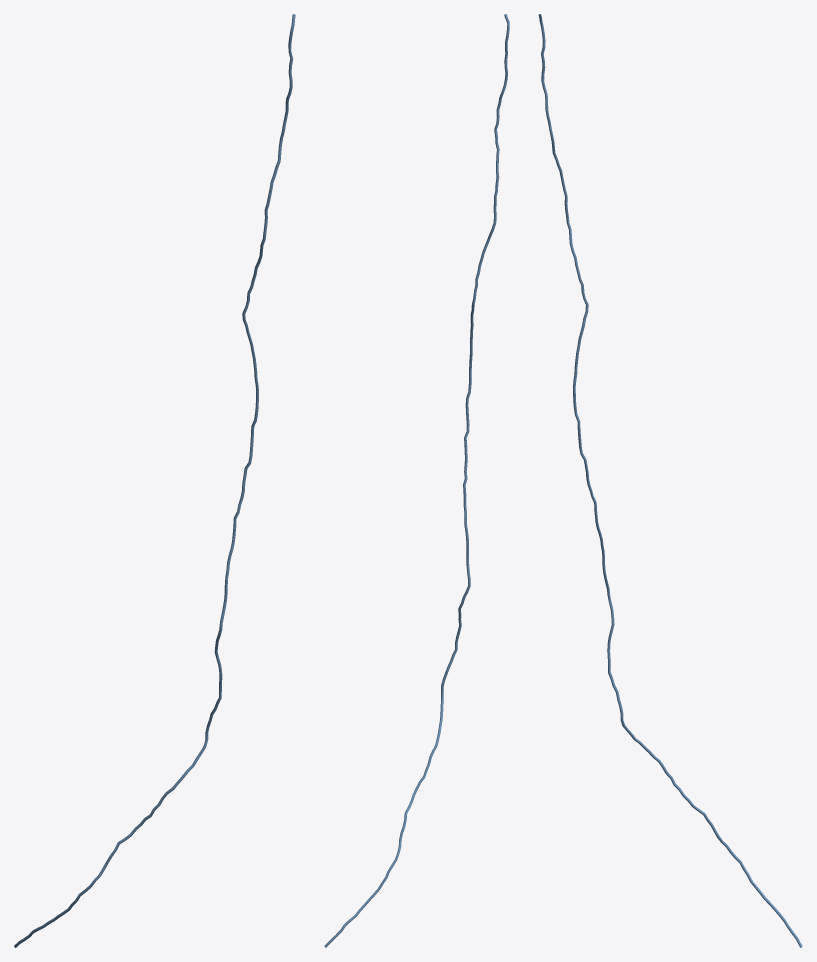
The model's file is sweep19.fbx.
3 renders of one model, left to right at view 1: azimuth 90°, elevation 25°; view 2: azimuth 150°, elevation 25°; view 3: azimuth 270°, elevation 25°, orthographic. The views are drawn at different scales.
Parts seen in each view (by area): view 1: sweep19; view 2: sweep19; view 3: sweep19.
Boxes of the visible parts, x1,y1,x2,y2 form: sweep19: (14,14,295,947); sweep19: (324,14,509,947); sweep19: (538,14,802,947).
Size of the model in its own units: 0.528 by 6.91 by 1.83.
